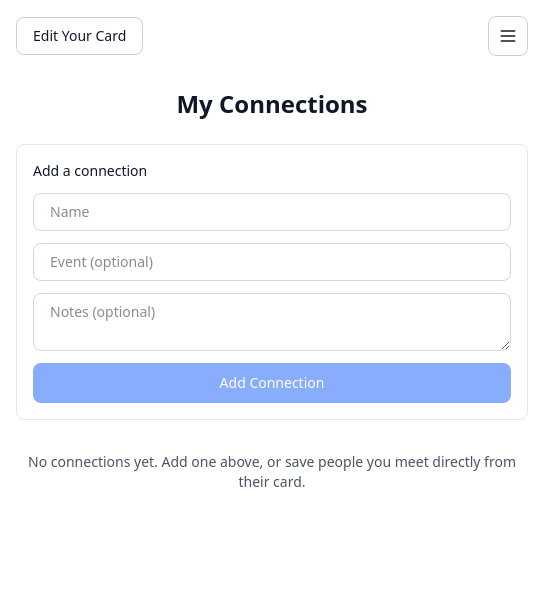
Test: ConnectionsPage › adds a connection via the manual entry form
The width and height of the screenshot is (545, 592).
Type "Ada Lovelace" into the field labelled "Name" at point(272, 212), box [33,193,511,231]
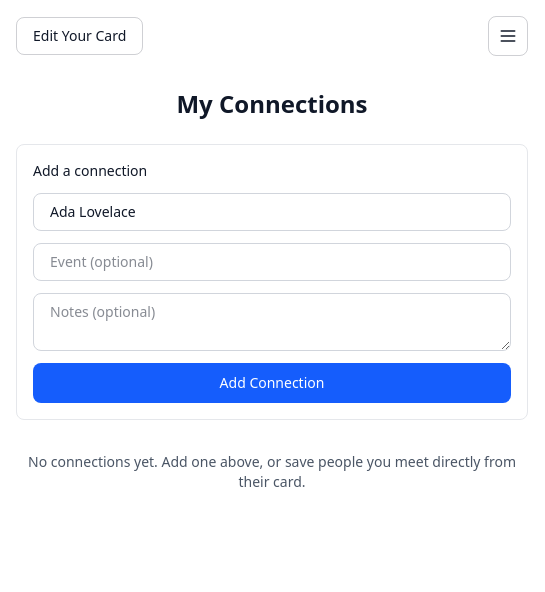
Type "AWS re:Invent" into the field labelled "Event" at point(272, 262), box [33,243,511,281]
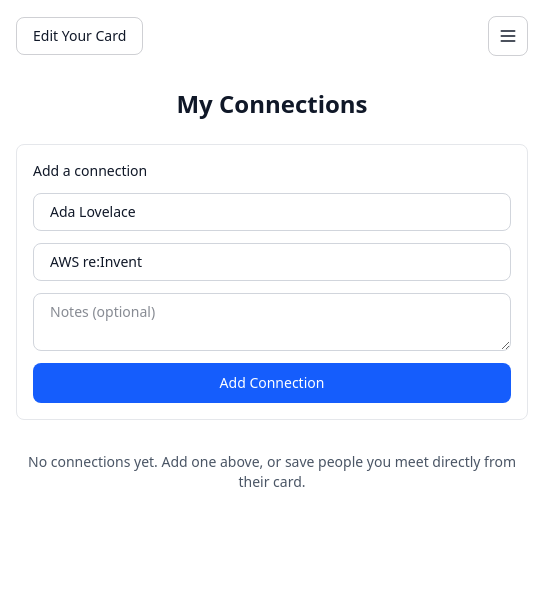
Click the button "Add Connection" at point(272, 383), box [33,363,511,403]
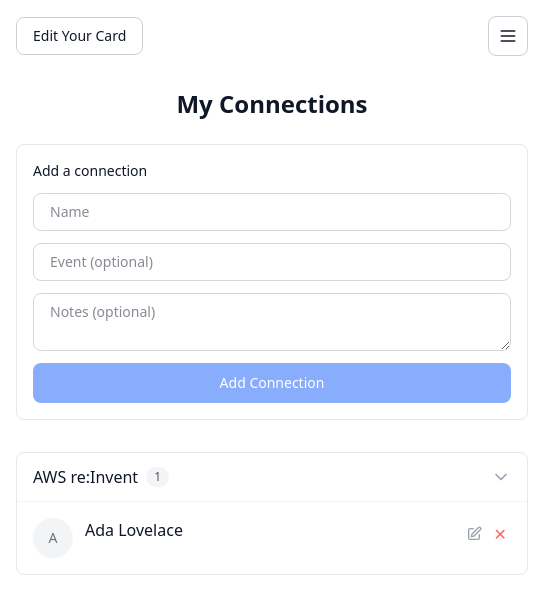
Check: the text "Ada Lovelace" is shown, box [85,519,183,541]
